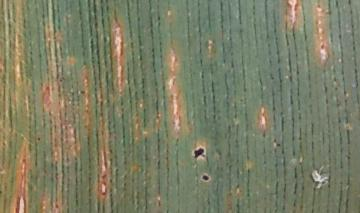tarspot: (192, 146, 207, 160), (200, 174, 209, 182), (78, 88, 87, 96), (54, 201, 60, 212), (319, 41, 326, 50), (34, 135, 42, 142), (57, 77, 64, 84), (274, 142, 281, 148), (1, 140, 6, 147), (1, 189, 4, 195)
